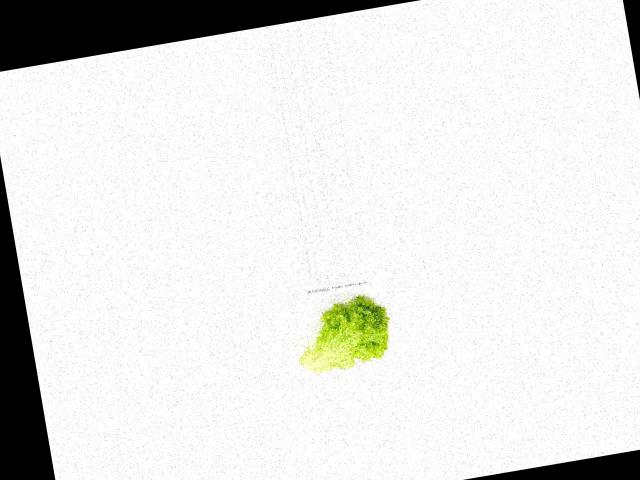lettuce: (291, 290, 400, 380)
